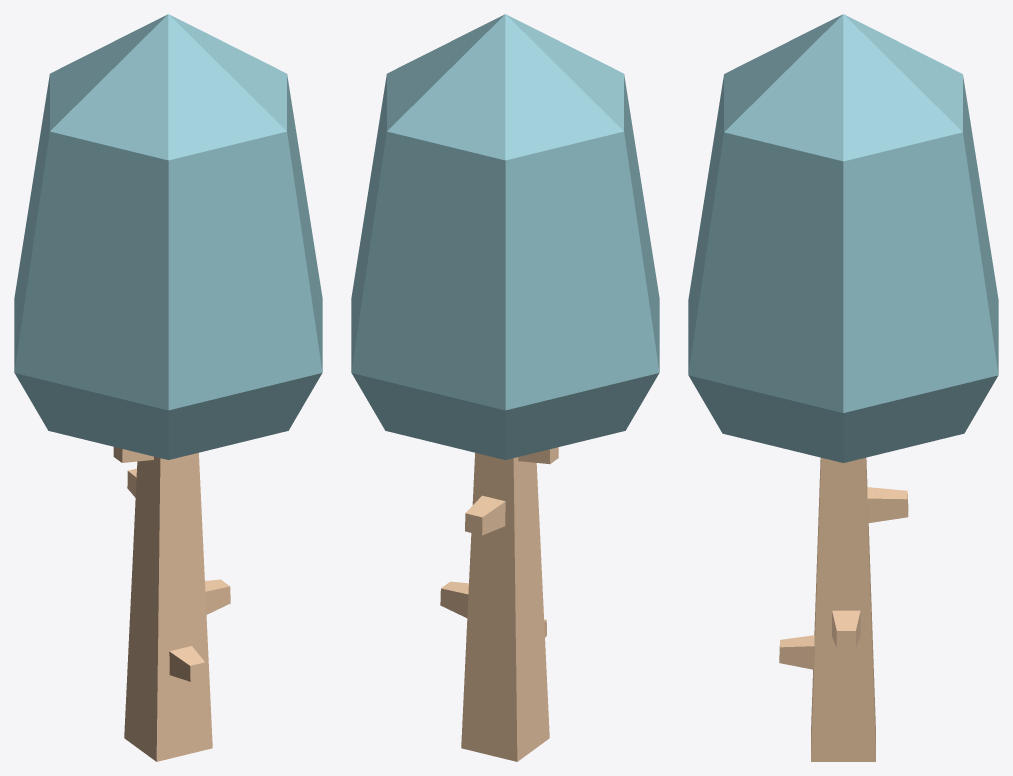
Rendered from tree_default_dark.gltf.
3 renders of one model, left to right at view 1: azimuth 30°, elevation 25°; view 2: azimuth 150°, elevation 25°; view 3: azimuth 270°, elevation 25°, orthographic.
Visible parts, largest first — view 1: tree_default_dark; view 2: tree_default_dark; view 3: tree_default_dark.
Boxes of the visible parts, x1,y1,x2,y2 form: tree_default_dark: (14,14,322,761); tree_default_dark: (351,14,659,761); tree_default_dark: (688,14,998,761).
Size of the model in its own units: 0.755 by 1.71 by 0.6538.
